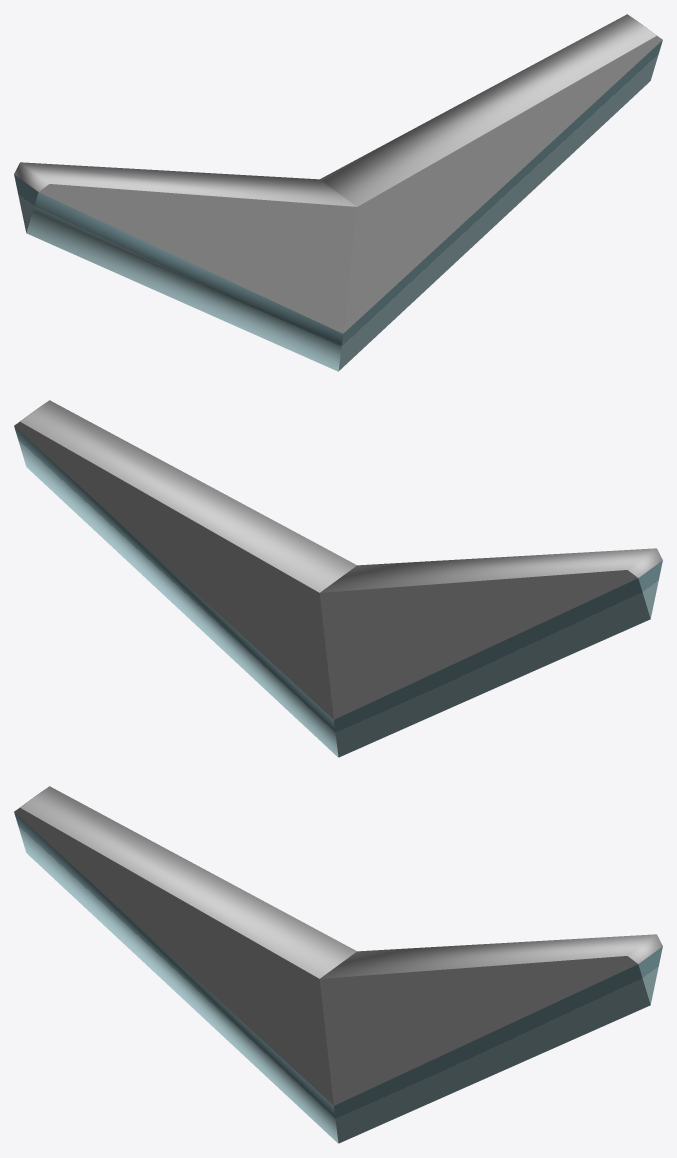
Rendered from CuttingTrap_low_colliders.fbx.
The picture shows the model from 3 angles, top to bottom: view 1: azimuth 30°, elevation 25°; view 2: azimuth 150°, elevation 25°; view 3: azimuth 330°, elevation 25°; orthographic projection.
Visible parts, largest first — view 1: CuttingTrap_collider_000, CuttingTrap_collider_001; view 2: CuttingTrap_collider_000, CuttingTrap_collider_001; view 3: CuttingTrap_collider_001, CuttingTrap_collider_000.
Part boxes in pixels (x1,y1,x2,y2): CuttingTrap_collider_000: (14, 162, 357, 371); CuttingTrap_collider_001: (320, 14, 662, 370); CuttingTrap_collider_000: (319, 548, 662, 757); CuttingTrap_collider_001: (14, 400, 356, 757); CuttingTrap_collider_001: (319, 934, 662, 1143); CuttingTrap_collider_000: (14, 786, 356, 1143).
Size of the model in its own units: 72.2 by 7.55 by 30.14.
